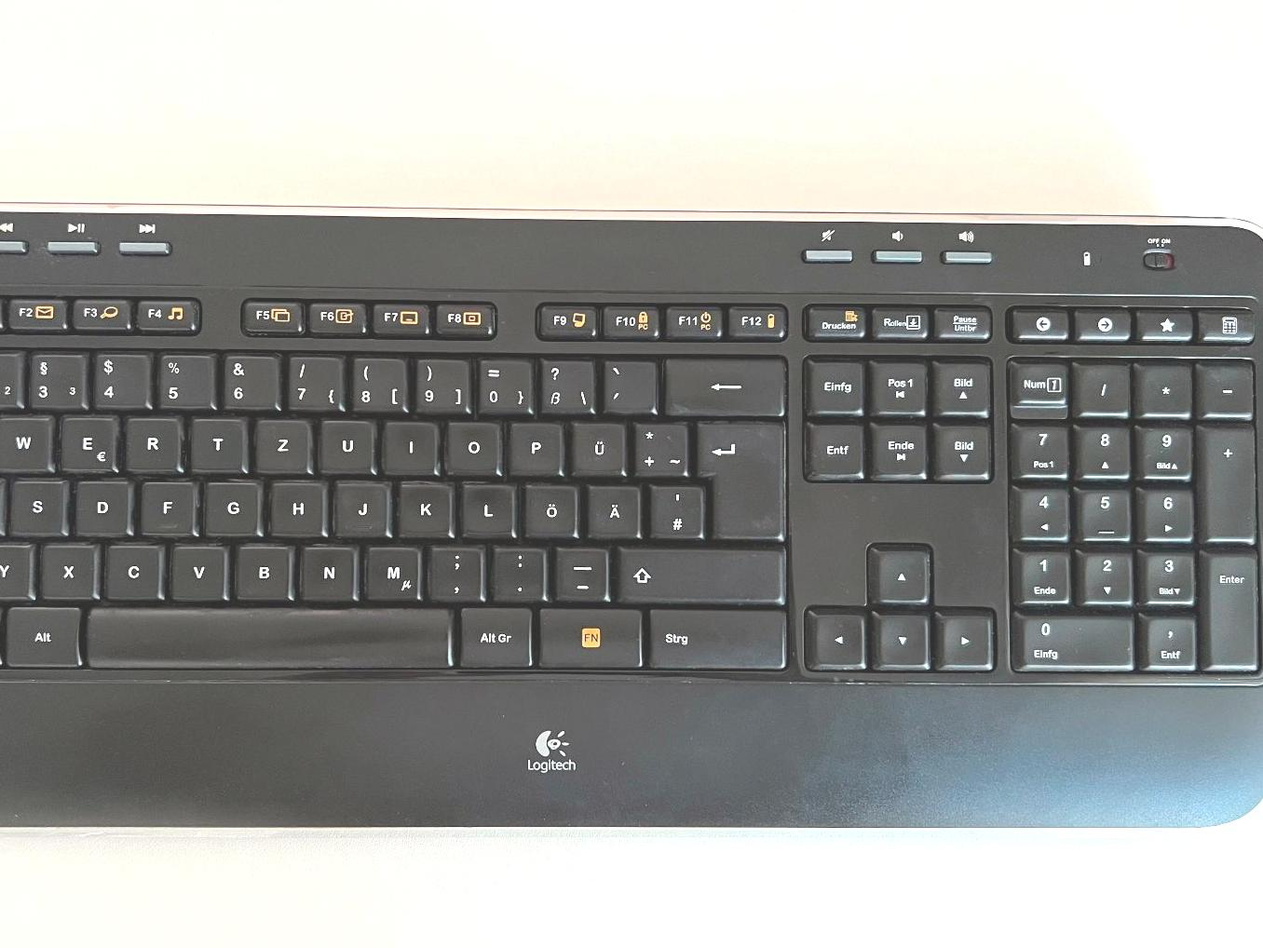0: (474, 354, 530, 413)
1: (1, 347, 30, 405)
2: (1, 348, 31, 406)
3: (25, 348, 85, 407)
4: (90, 348, 148, 406)
5: (154, 349, 212, 407)
6: (219, 350, 278, 408)
7: (284, 351, 342, 410)
8: (347, 352, 405, 412)
9: (412, 353, 468, 413)
a: (1, 474, 30, 533)
accent: (600, 355, 654, 411)
ae: (584, 481, 638, 535)
alt-left: (1, 602, 80, 665)
altgr-right: (455, 603, 531, 665)
b: (233, 540, 290, 597)
c: (102, 539, 161, 598)
caret: (1, 345, 32, 405)
comma: (426, 541, 481, 599)
d: (73, 476, 129, 533)
del: (660, 353, 784, 413)
e: (57, 411, 115, 469)
enter: (693, 417, 783, 537)
f: (138, 476, 193, 532)
g: (202, 477, 259, 533)
h: (267, 476, 323, 534)
hash: (646, 480, 701, 535)
i: (380, 416, 436, 470)
j: (333, 476, 387, 534)
k: (395, 478, 450, 534)
keyboard: (1, 210, 1263, 698)
l: (458, 479, 512, 534)
less: (1, 538, 31, 597)
m: (361, 541, 418, 598)
minus: (551, 543, 605, 598)
n: (297, 541, 355, 598)
o: (442, 417, 498, 472)
oe: (522, 481, 576, 535)
p: (506, 418, 561, 472)
plus: (630, 417, 686, 474)
point: (490, 542, 544, 598)
q: (1, 410, 32, 468)
r: (121, 413, 179, 469)
s: (7, 476, 64, 534)
shift-left: (1, 540, 39, 598)
shift-lock: (1, 473, 59, 534)
shift-right: (613, 542, 782, 599)
space: (80, 603, 450, 666)
ss: (536, 355, 592, 413)
strg-left: (1, 601, 50, 666)
strg-right: (643, 604, 787, 668)
t: (187, 413, 243, 467)
tab: (1, 410, 47, 467)
u: (317, 415, 373, 470)
ue: (568, 417, 623, 472)
v: (168, 540, 225, 598)
w: (1, 411, 50, 469)
x: (38, 539, 95, 596)
y: (1, 538, 31, 596)
z: (251, 414, 308, 470)
